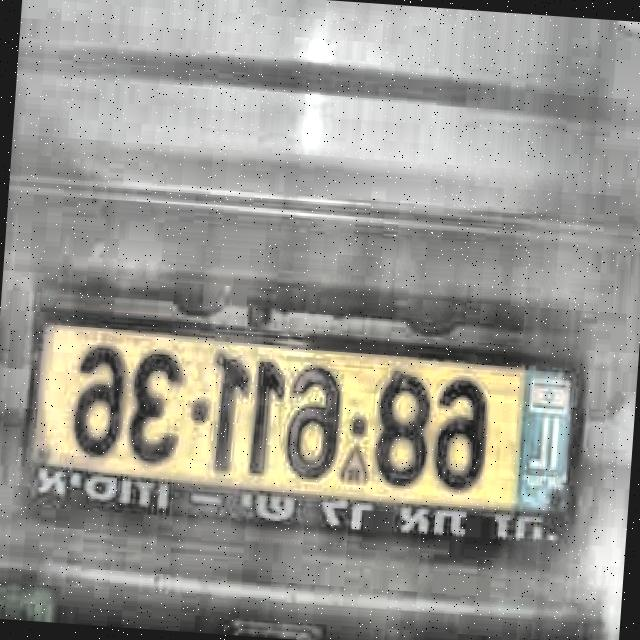license_plate: (22, 322, 584, 556)
